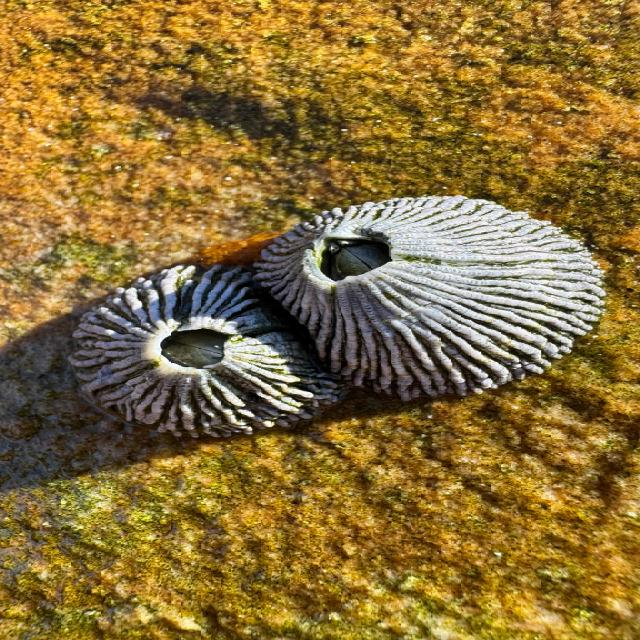barnacles: (256, 194, 610, 395), (47, 266, 315, 453)
